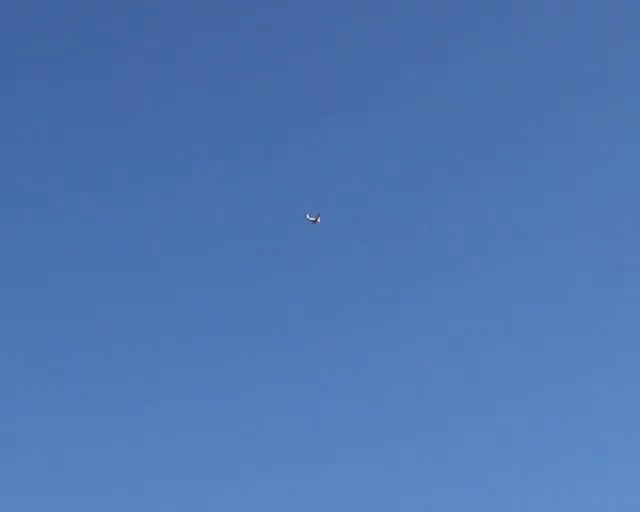AIRPLANE: (305, 212, 321, 224)
